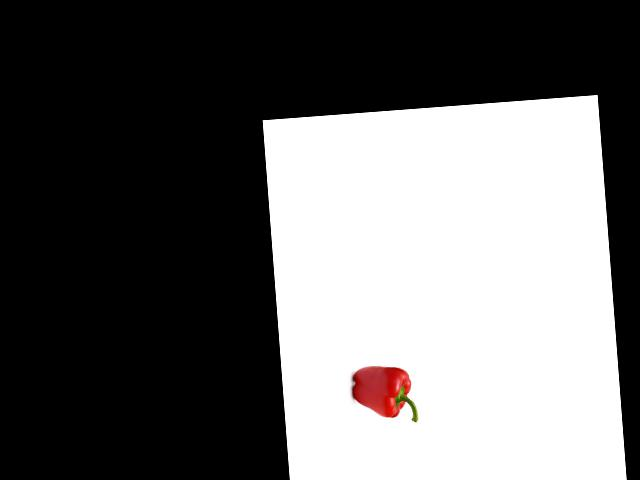bell_pepper: (346, 359, 422, 428)
